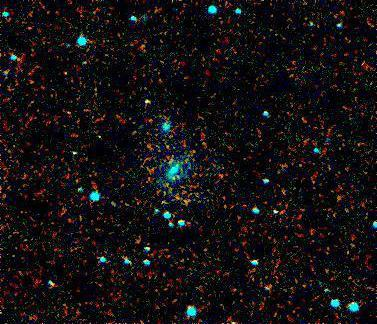star: (172, 189, 202, 219)
